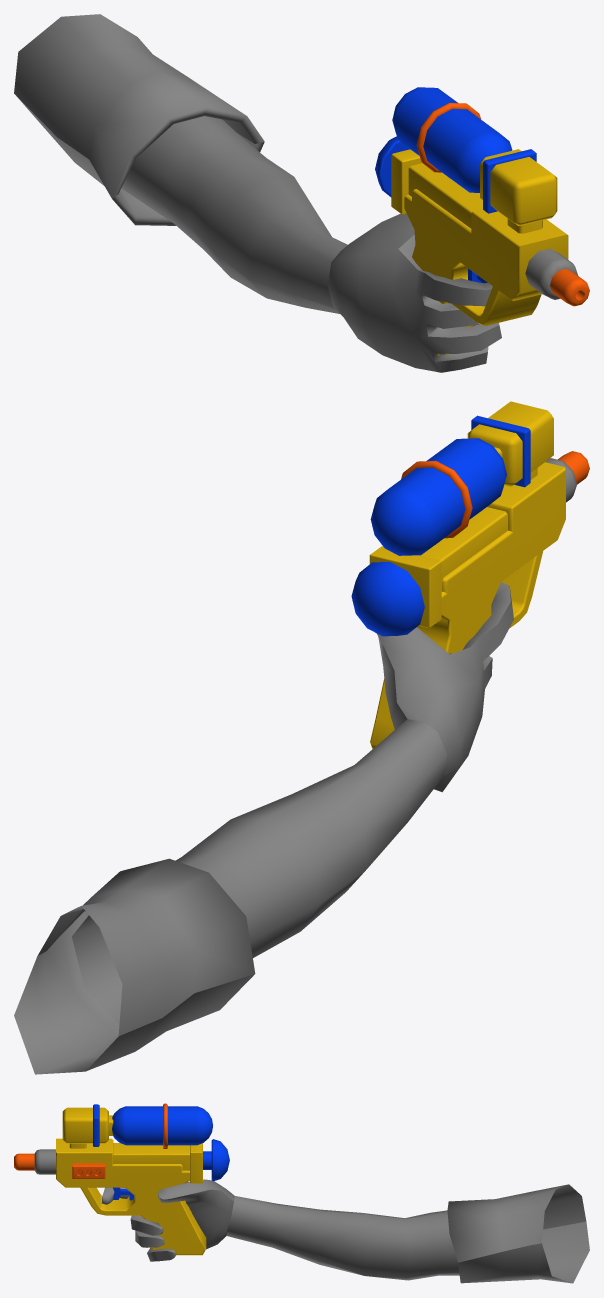
Rendered from SM_WaterGun.fbx.
The picture shows the model from 3 angles, top to bottom: view 1: azimuth 30°, elevation 25°; view 2: azimuth 150°, elevation 25°; view 3: azimuth 270°, elevation 25°; orthographic projection. The views are drawn at different scales.
Visible parts, largest first — view 1: Plane001, Gun; view 2: Plane001, Gun; view 3: Plane001, Gun.
Boxes of the visible parts, x1=… form: Plane001: x1=14, y1=14, x2=501, y2=372; Gun: x1=375, y1=87, x2=589, y2=355; Plane001: x1=14, y1=582, x2=513, y2=1074; Gun: x1=351, y1=401, x2=589, y2=748; Plane001: x1=101, y1=1179, x2=589, y2=1283; Gun: x1=14, y1=1103, x2=229, y2=1255.
Bounding box in the file's own units: 15.92 × 88.78 × 30.57.
